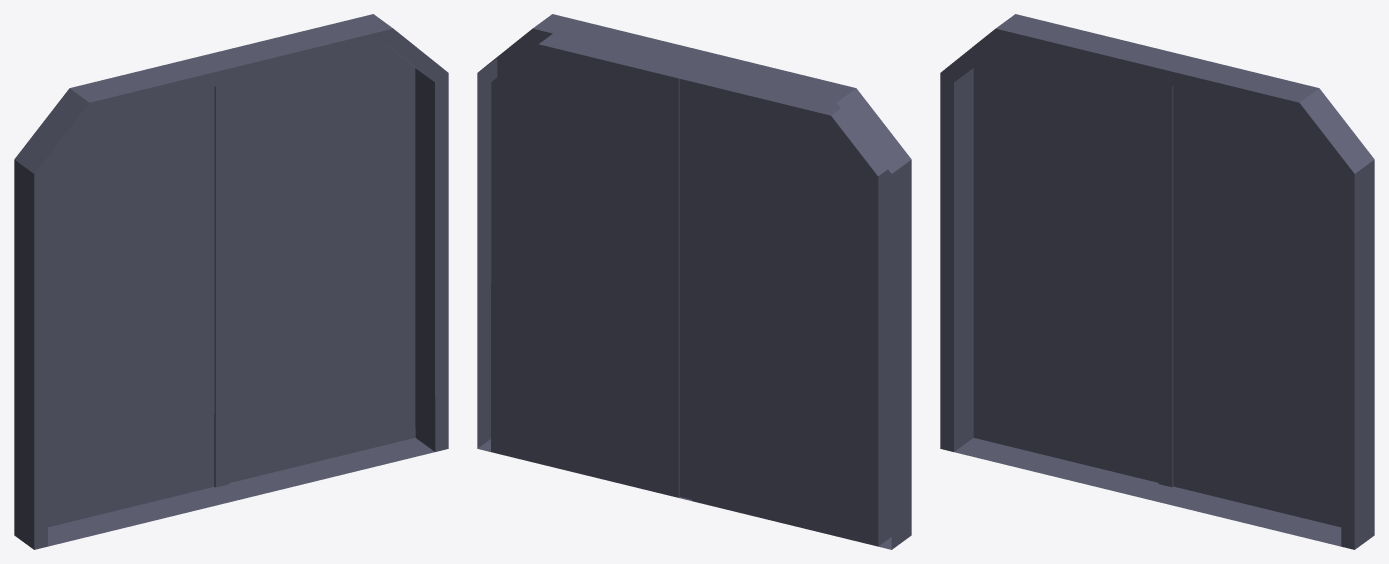
Rendered from lift animation.fbx.
3 renders of one model, left to right at view 1: azimuth 30°, elevation 25°; view 2: azimuth 150°, elevation 25°; view 3: azimuth 330°, elevation 25°, orthographic.
Visible parts, largest first — view 1: Right, Left, Lift; view 2: Right, Left, Lift; view 3: Left, Right, Lift.
Boxes of the visible parts, bbox=[...] form: Right: bbox=[222, 45, 415, 485]; Left: bbox=[48, 85, 222, 527]; Lift: bbox=[14, 14, 448, 549]; Right: bbox=[491, 44, 686, 498]; Left: bbox=[686, 80, 878, 546]; Lift: bbox=[477, 14, 911, 549]; Left: bbox=[973, 45, 1165, 485]; Right: bbox=[1165, 84, 1341, 527]; Lift: bbox=[940, 14, 1374, 549].
Bounding box in the file's own units: 60 × 5 × 60.
Materials: 1 (1 with a texture image).
